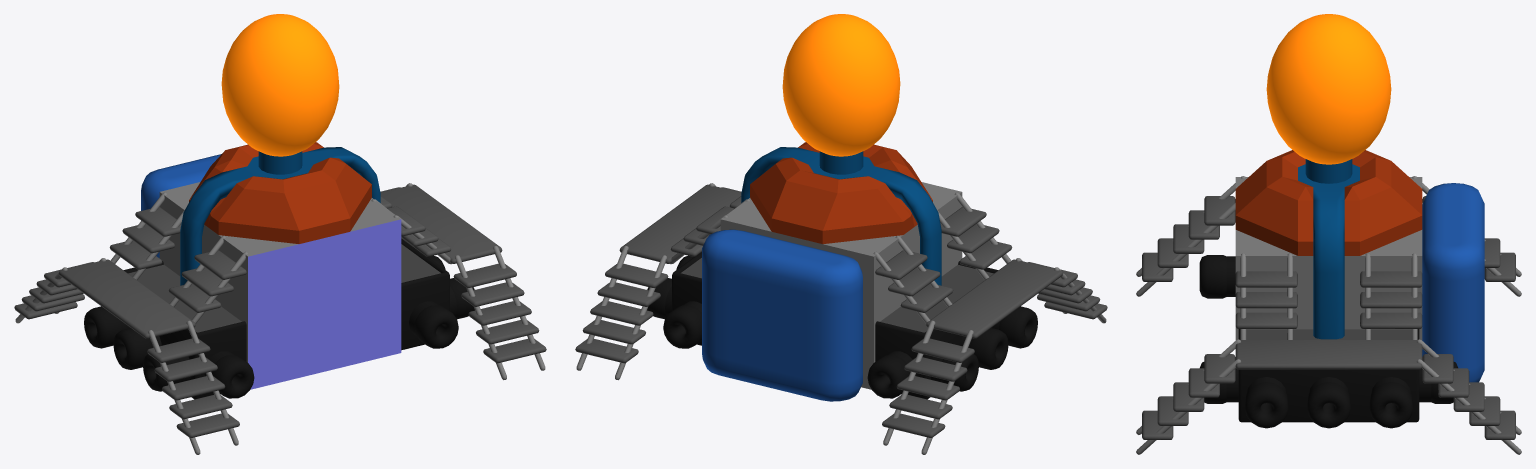
Rendered from LastLuna_Model_Station_Portal.fbx.
3 renders of one model, left to right at view 1: azimuth 30°, elevation 25°; view 2: azimuth 150°, elevation 25°; view 3: azimuth 270°, elevation 25°, orthographic. The views are drawn at different scales.
Visible parts, largest first — view 1: Box001, Stair_Platform001, Water_Collector001, Portal001, Portal_Base001, Waterfall001, Stair_Support001, Water_Tank001, Portal_Waterfall001; view 2: Stair_Platform001, Water_Tank001, Portal001, Water_Collector001, Portal_Base001, Box001, Waterfall001, Stair_Support001, Portal_Waterfall001; view 3: Stair_Platform001, Portal001, Water_Collector001, Portal_Base001, Water_Tank001, Box001, Waterfall001, Stair_Support001, Portal_Waterfall001.
Boxes of the visible parts, bbox=[...] form: Box001: bbox=[159, 182, 401, 389]; Stair_Platform001: bbox=[14, 184, 546, 437]; Water_Collector001: bbox=[84, 238, 474, 399]; Portal001: bbox=[221, 14, 339, 156]; Portal_Base001: bbox=[189, 142, 371, 243]; Waterfall001: bbox=[180, 147, 380, 285]; Stair_Support001: bbox=[15, 183, 545, 454]; Water_Tank001: bbox=[141, 154, 221, 257]; Portal_Waterfall001: bbox=[258, 151, 302, 174]; Stair_Platform001: bbox=[575, 184, 1107, 437]; Water_Tank001: bbox=[702, 229, 862, 401]; Portal001: bbox=[782, 14, 900, 156]; Water_Collector001: bbox=[647, 252, 1037, 399]; Portal_Base001: bbox=[750, 142, 932, 243]; Box001: bbox=[720, 182, 962, 389]; Waterfall001: bbox=[741, 147, 941, 285]; Stair_Support001: bbox=[576, 183, 1106, 454]; Portal_Waterfall001: bbox=[819, 151, 863, 174]; Stair_Platform001: bbox=[1142, 196, 1515, 439]; Portal001: bbox=[1266, 14, 1391, 164]; Water_Collector001: bbox=[1199, 255, 1457, 428]; Portal_Base001: bbox=[1235, 150, 1422, 255]; Water_Tank001: bbox=[1422, 183, 1484, 382]; Box001: bbox=[1235, 177, 1422, 340]; Waterfall001: bbox=[1298, 164, 1359, 339]; Stair_Support001: bbox=[1136, 176, 1521, 454]; Portal_Waterfall001: bbox=[1305, 159, 1352, 183].
Size of the model in its own units: 700 by 615 by 619.
